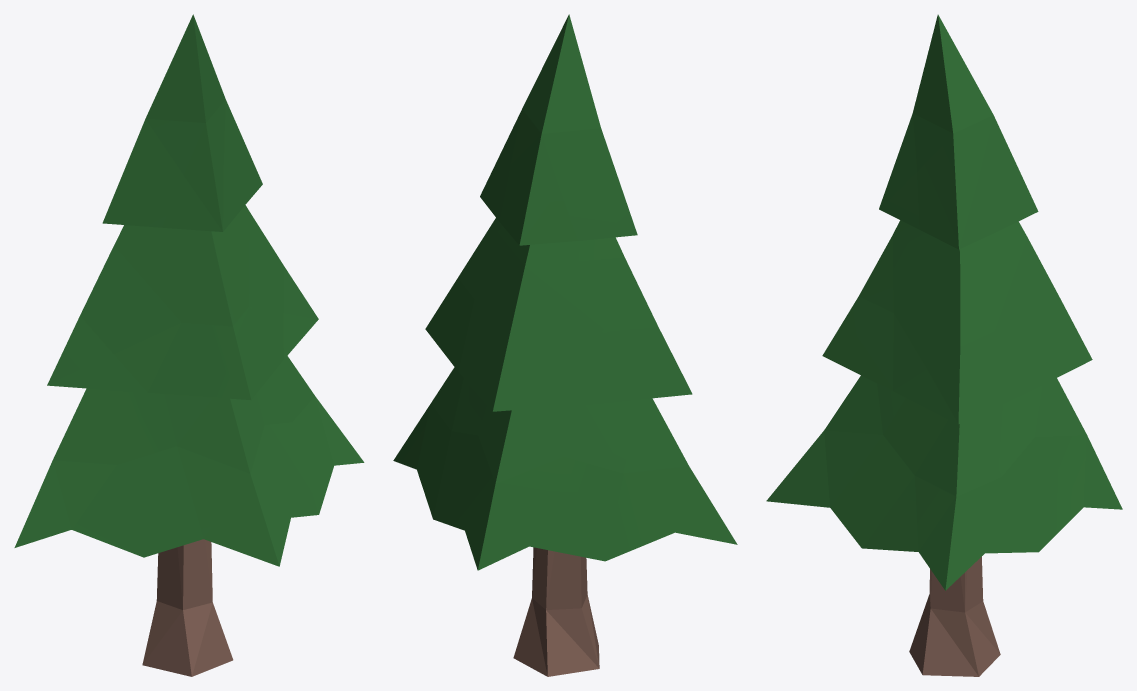
Rendered from Arvore_verdinha.fbx.
3 renders of one model, left to right at view 1: azimuth 30°, elevation 25°; view 2: azimuth 150°, elevation 25°; view 3: azimuth 270°, elevation 25°, orthographic.
Parts seen in each view (by area): view 1: tree-spruce; view 2: tree-spruce; view 3: tree-spruce.
Part boxes in pixels (box(x1,y1,x2,y2)): tree-spruce: box(14, 14, 364, 676); tree-spruce: box(393, 14, 737, 676); tree-spruce: box(766, 14, 1122, 676).
Bounding box in the file's own units: 314 × 555 × 278.
